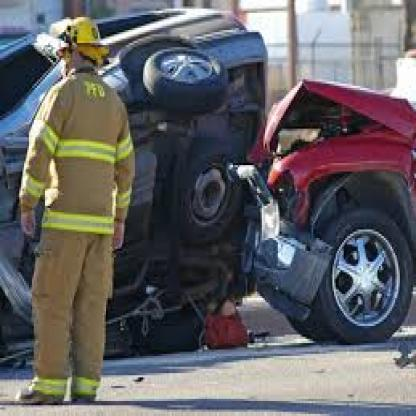accident: (83, 5, 413, 377)
